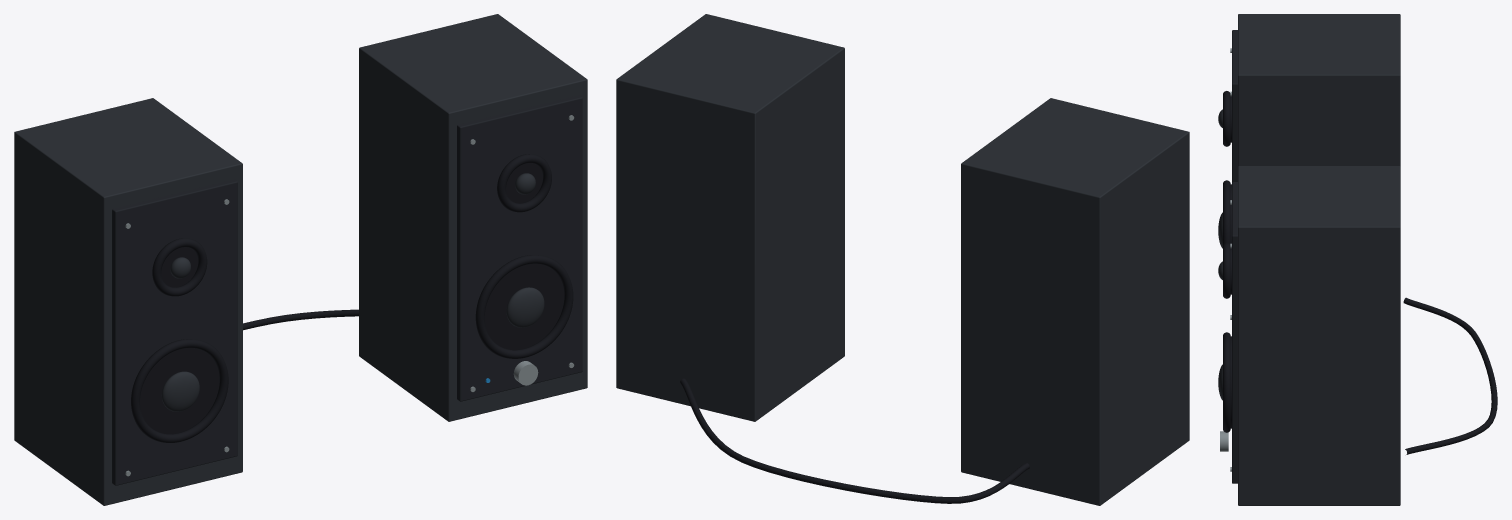
File: speakers.glb
3 views of the same model, side by side, from view 1: azimuth 30°, elevation 25°; view 2: azimuth 150°, elevation 25°; view 3: azimuth 270°, elevation 25° (orthographic). The views are drawn at different scales.
Parts seen in each view (by area): view 1: Speaker cabinet (×2), Fabric baffle (×2), Driver cone back (×4), Speaker rubber surround (×4), Speaker dust cap (×2), Speaker connection cable; view 2: Speaker cabinet (×2), Speaker connection cable; view 3: Speaker cabinet (×2), Fabric baffle (×2), Speaker rubber surround (×4), Speaker connection cable.
Boxes of the visible parts, x1=… form: Speaker cabinet (×2): x1=14, y1=14, x2=587, y2=505; Fabric baffle (×2): x1=112, y1=95, x2=582, y2=485; Driver cone back (×4): x1=140, y1=163, x2=564, y2=434; Speaker rubber surround (×4): x1=131, y1=154, x2=573, y2=442; Speaker dust cap (×2): x1=161, y1=287, x2=544, y2=411; Speaker connection cable: x1=243, y1=309, x2=358, y2=330; Speaker cabinet (×2): x1=616, y1=14, x2=1189, y2=505; Speaker connection cable: x1=680, y1=378, x2=1029, y2=503; Speaker cabinet (×2): x1=1238, y1=14, x2=1400, y2=505; Fabric baffle (×2): x1=1232, y1=30, x2=1237, y2=483; Speaker rubber surround (×4): x1=1223, y1=91, x2=1230, y2=432; Speaker connection cable: x1=1403, y1=297, x2=1497, y2=454.
Size of the model in its own units: 0.295 by 0.18 by 0.1632.
Materials: 3 (3 with a texture image).
